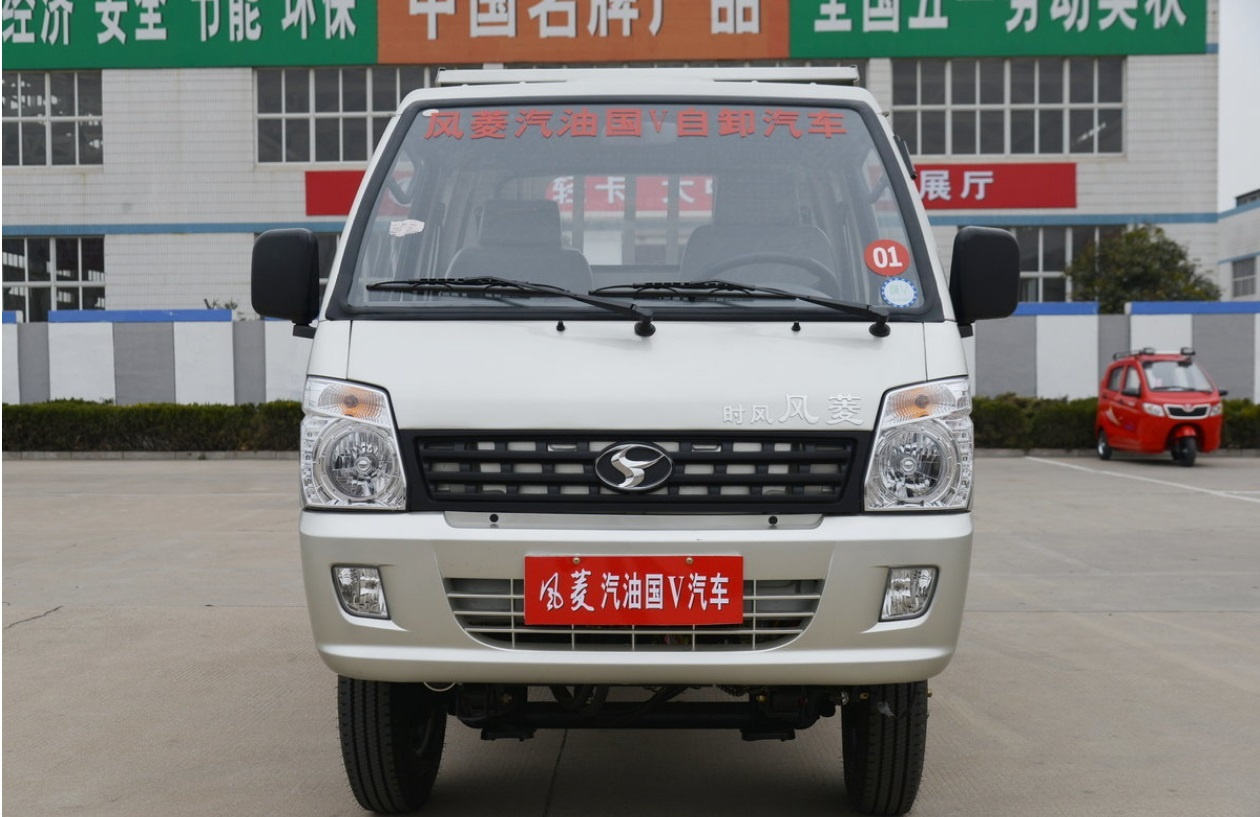truck: (246, 57, 1028, 797)
